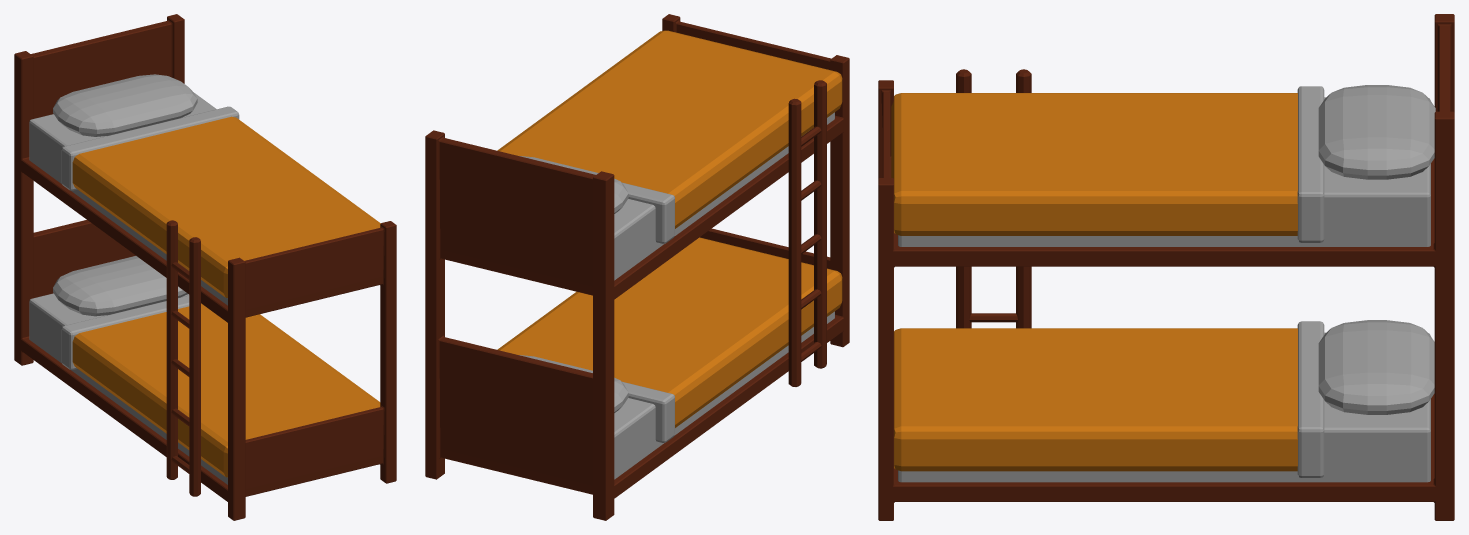
File: hh_bunk_bed.glb
3 renders of one model, left to right at view 1: azimuth 30°, elevation 25°; view 2: azimuth 150°, elevation 25°; view 3: azimuth 270°, elevation 25°, orthographic. The views are drawn at different scales.
Parts seen in each view (by area): view 1: Bunk_bed; view 2: Bunk_bed; view 3: Bunk_bed.
Part boxes in pixels (left/top/right/bottom): Bunk_bed: left=14, top=14, right=396, bottom=520; Bunk_bed: left=425, top=14, right=849, bottom=520; Bunk_bed: left=878, top=14, right=1454, bottom=520.
Bounding box in the file's own units: 1.04 × 1.71 × 2.22.
